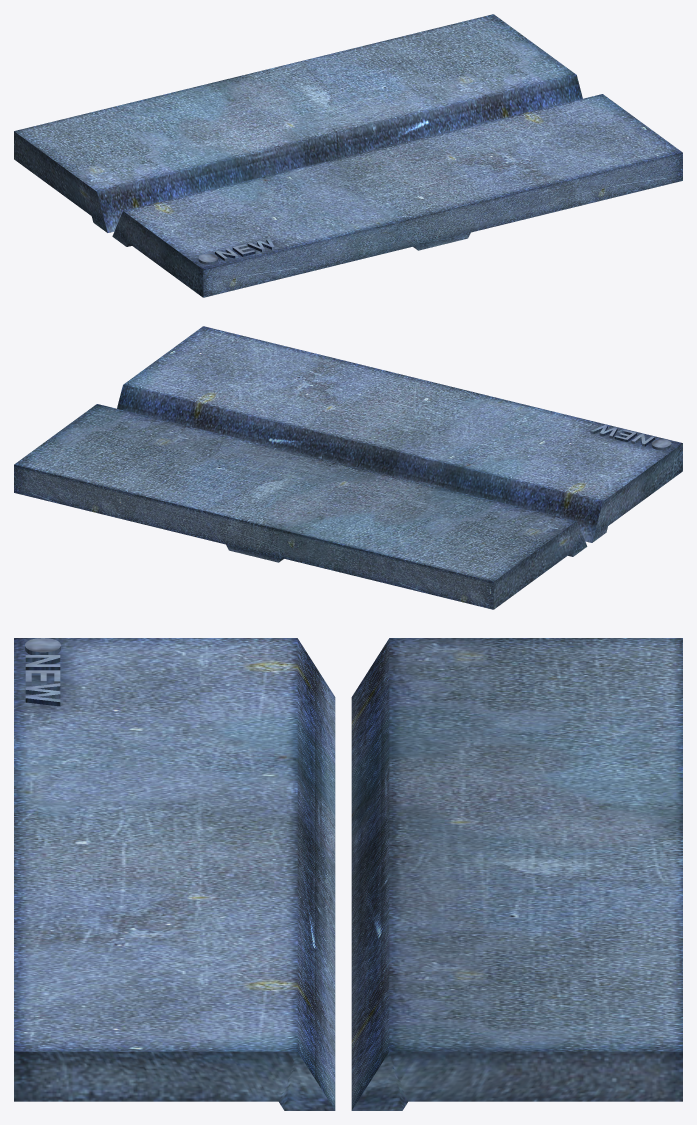
Rendered from MentalPlane_20140807_02.FBX.
3 renders of one model, top to bottom at view 1: azimuth 30°, elevation 25°; view 2: azimuth 150°, elevation 25°; view 3: azimuth 270°, elevation 25°, orthographic. The views are drawn at different scales.
Parts seen in each view (by area): view 1: ButtWeldment_12mm_A, ButtWeldment_12mm_B; view 2: ButtWeldment_12mm_B, ButtWeldment_12mm_A; view 3: ButtWeldment_12mm_B, ButtWeldment_12mm_A.
Boxes of the visible parts, box(x1,y1,x2,y2) form: ButtWeldment_12mm_A: box(112, 94, 682, 297); ButtWeldment_12mm_B: box(14, 14, 582, 232); ButtWeldment_12mm_B: box(14, 404, 587, 609); ButtWeldment_12mm_A: box(117, 326, 682, 542); ButtWeldment_12mm_B: box(351, 638, 682, 1110); ButtWeldment_12mm_A: box(14, 638, 335, 1110).
Bounding box in the file's own units: 18 × 12.3 × 1.29.
